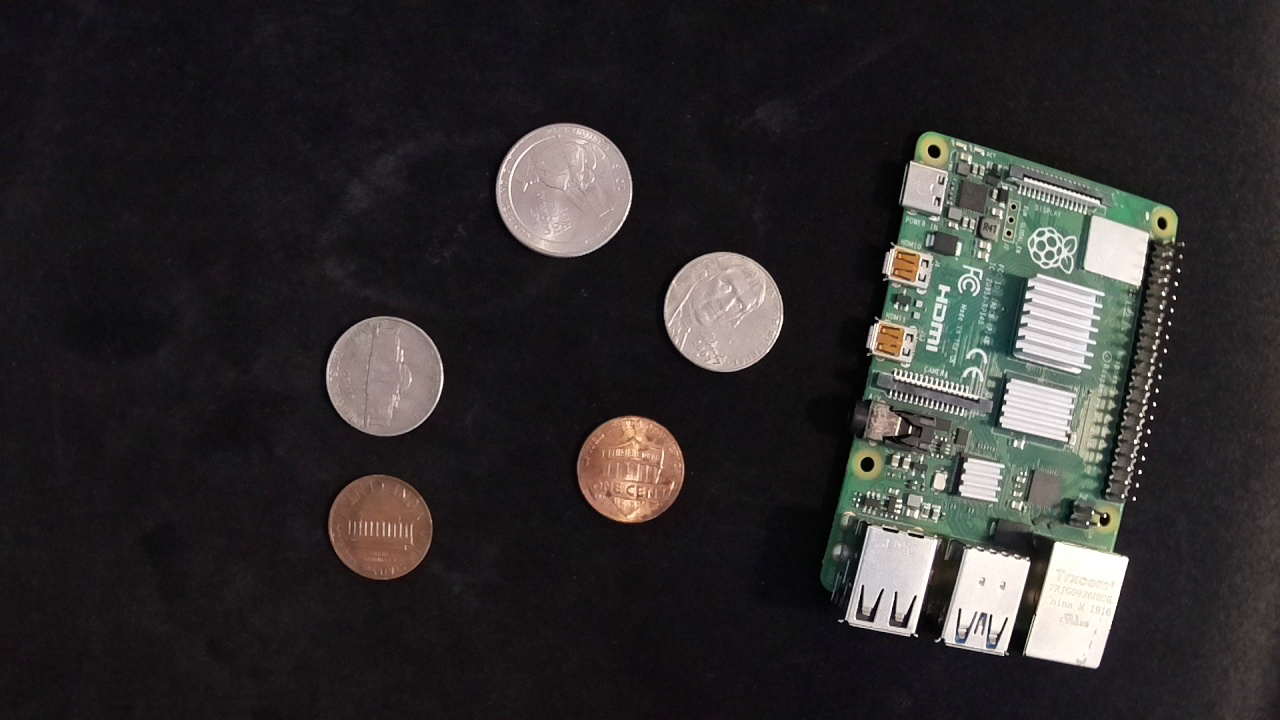nickel: (320, 310, 448, 442), (659, 246, 787, 376)
penny: (572, 411, 688, 527), (323, 469, 437, 585)
quarter: (492, 117, 636, 261)
